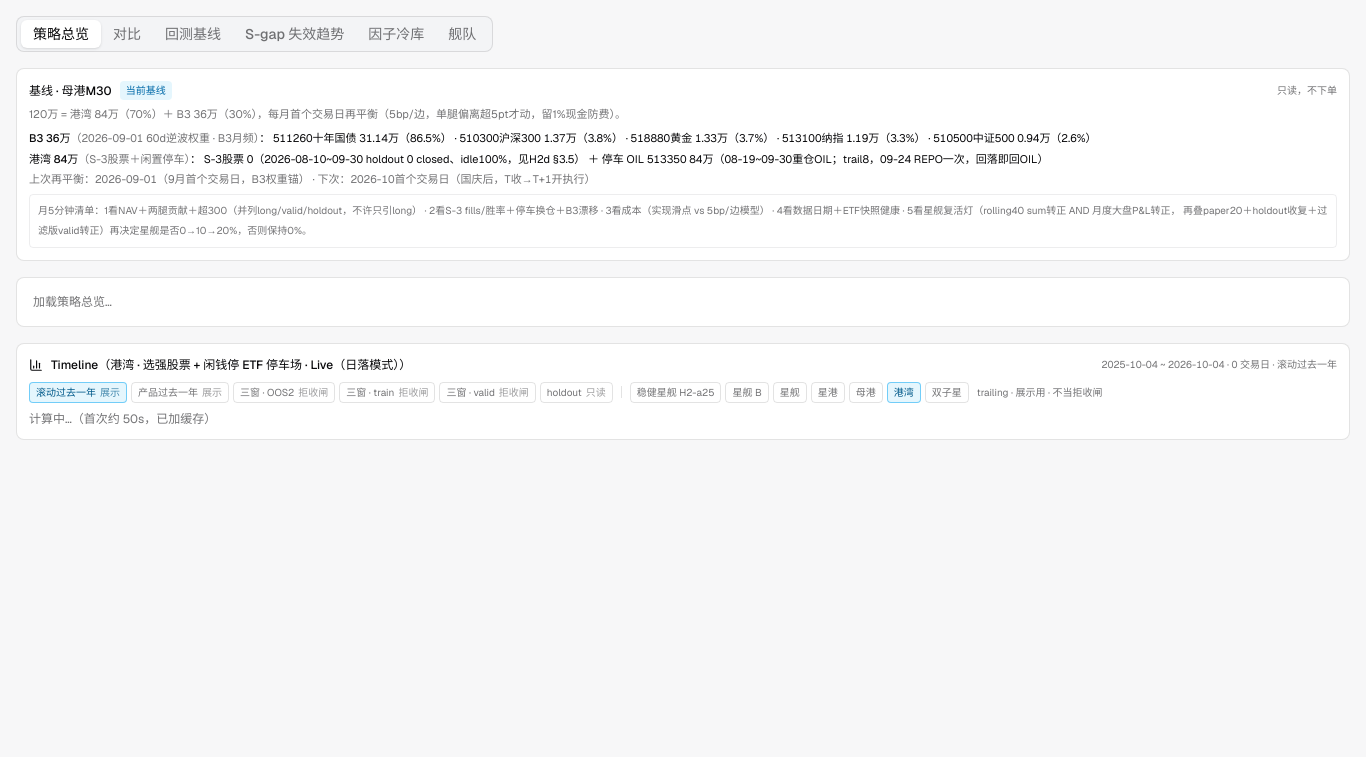
it: BacktestPage › shows the harbor timeline on compare tab
What coordinates should you click on to do the following:
click the button "对比"
I would click on:
 (127, 34)
Its box is [101,20,153,48].
(page scrolled)
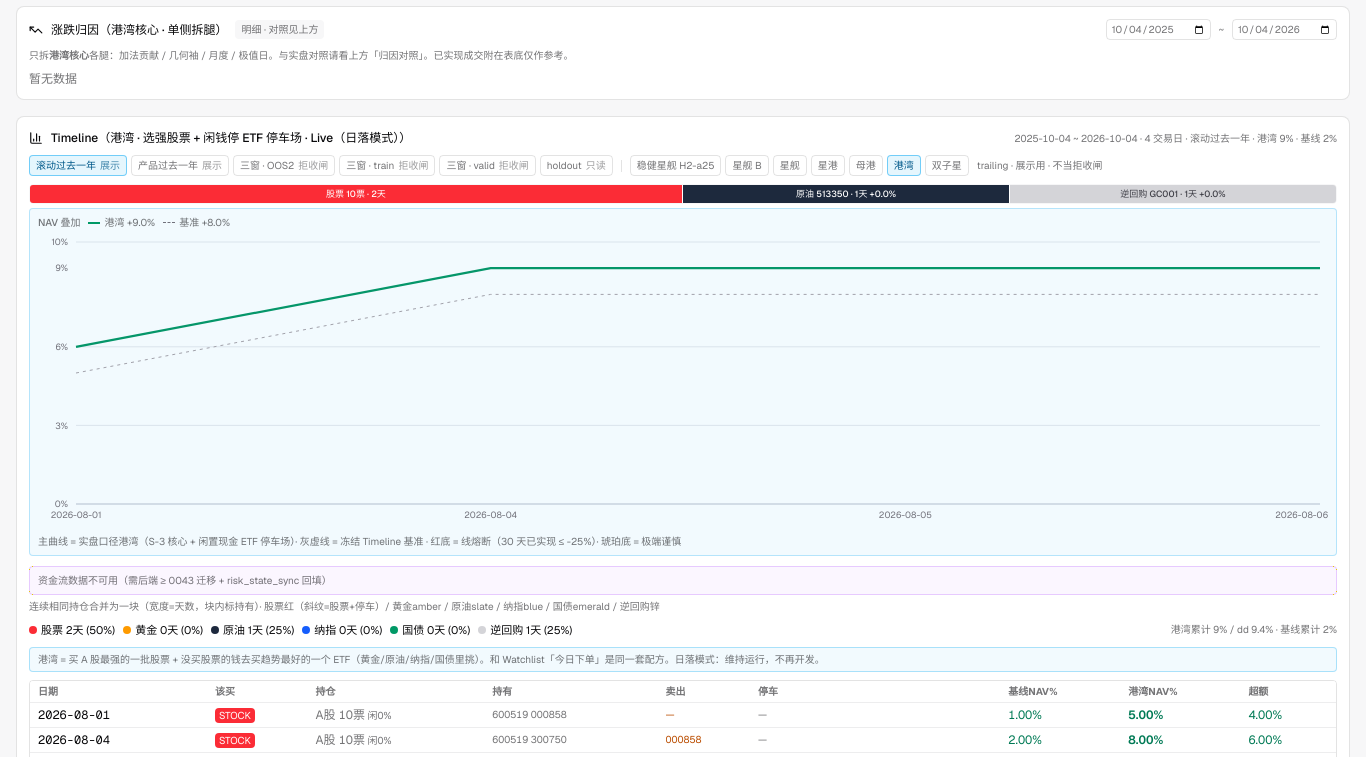
Now the text "港湾 · 选强股票 + 闲钱停 ETF 停车场" is shown, box [29,129,1337,147]
Now the text "资金流全景" is shown, box [29,566,1337,595]
Now the column heading "港湾NAV%" is shown, box [1128,680,1248,702]
